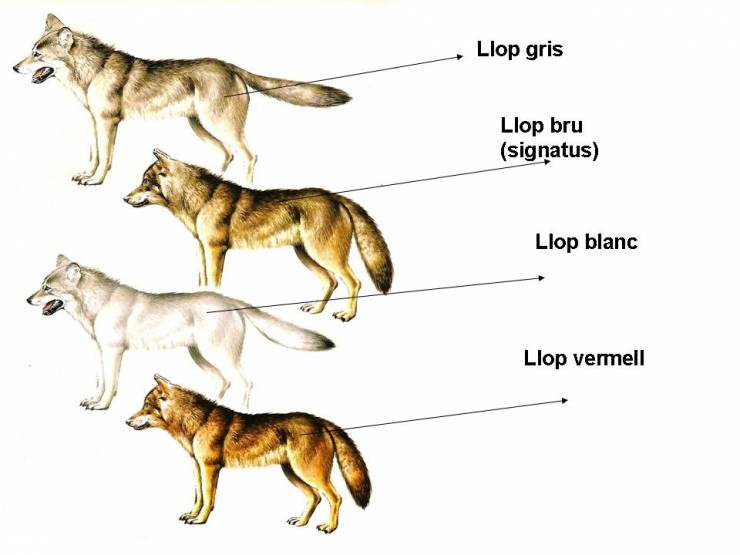Lobo: (105, 372, 424, 531), (12, 241, 321, 401), (17, 14, 301, 178), (118, 148, 406, 308)
